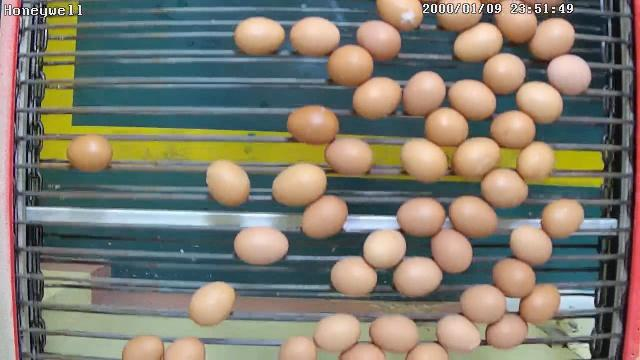egg: (270, 160, 328, 207), (233, 223, 290, 267), (284, 102, 340, 146), (398, 137, 449, 185), (349, 74, 402, 120), (367, 310, 422, 354), (204, 156, 250, 208), (514, 80, 566, 126), (186, 282, 238, 328), (452, 134, 501, 182), (299, 194, 349, 241), (325, 42, 376, 88), (448, 194, 499, 240), (399, 69, 446, 118), (526, 16, 576, 62), (288, 14, 342, 56), (329, 253, 379, 298), (447, 78, 498, 122), (392, 254, 443, 298), (232, 16, 286, 57), (544, 52, 592, 98), (428, 226, 474, 274), (480, 166, 530, 210), (453, 20, 503, 64), (396, 195, 446, 238), (459, 281, 507, 325), (324, 136, 374, 178), (312, 312, 362, 354), (362, 225, 408, 270), (356, 18, 403, 62), (490, 257, 538, 300), (434, 311, 483, 353), (64, 133, 114, 174), (487, 110, 538, 150), (492, 0, 537, 45), (540, 196, 586, 240), (422, 104, 470, 146), (518, 280, 561, 326), (482, 51, 526, 95), (508, 224, 554, 266), (484, 309, 530, 350), (515, 140, 556, 184)
